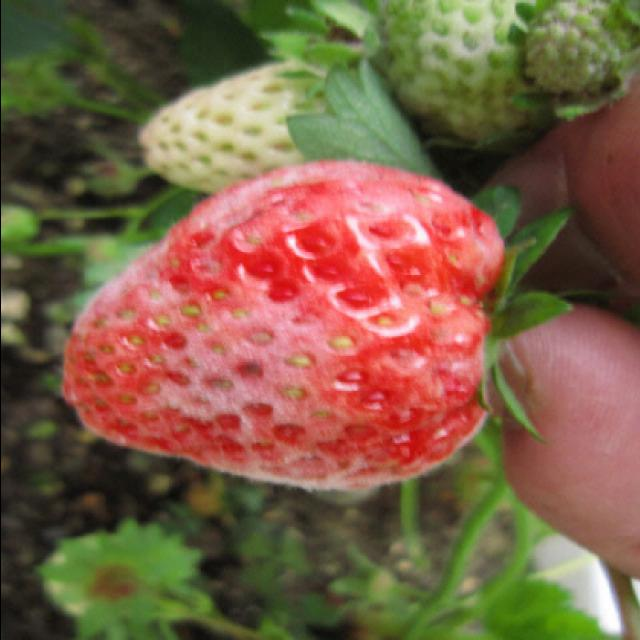Powdery Mildew Fruit: (63, 156, 505, 492)
